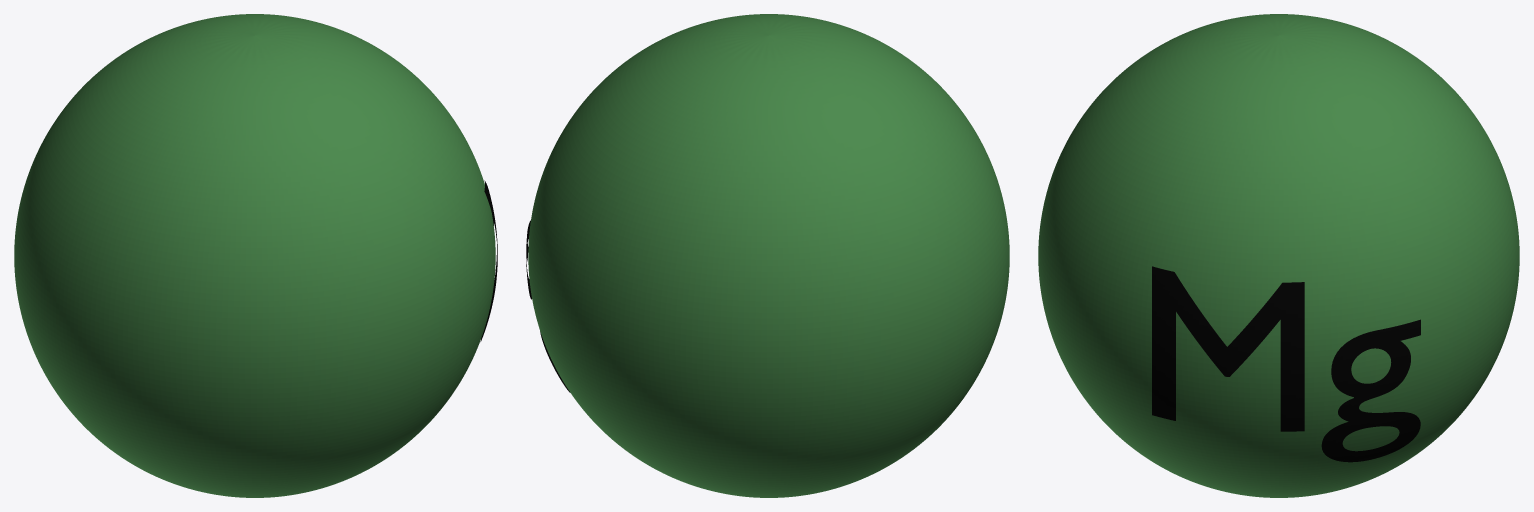
File: Magnesium (Mg).fbx
3 views of the same model, side by side, from view 1: azimuth 30°, elevation 25°; view 2: azimuth 150°, elevation 25°; view 3: azimuth 270°, elevation 25° (orthographic).
Visible parts, largest first — view 1: Sphere.003; view 2: Sphere.003; view 3: Sphere.003, Text.003.
Part boxes in pixels (box(x1,y1,x2,y2)): Sphere.003: box(14, 14, 495, 497); Sphere.003: box(528, 14, 1009, 497); Sphere.003: box(1038, 14, 1519, 497); Text.003: box(1152, 266, 1420, 462).
Bounding box in the file's own units: 198 × 200 × 197.
